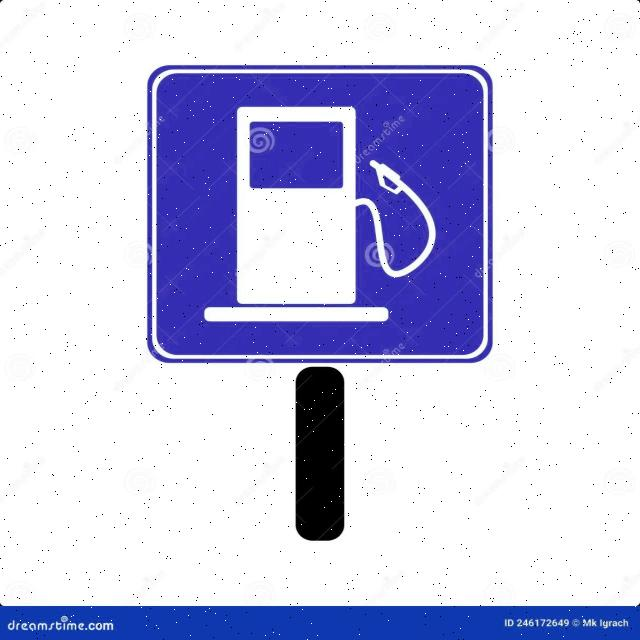petrol_station: (152, 70, 486, 368)
